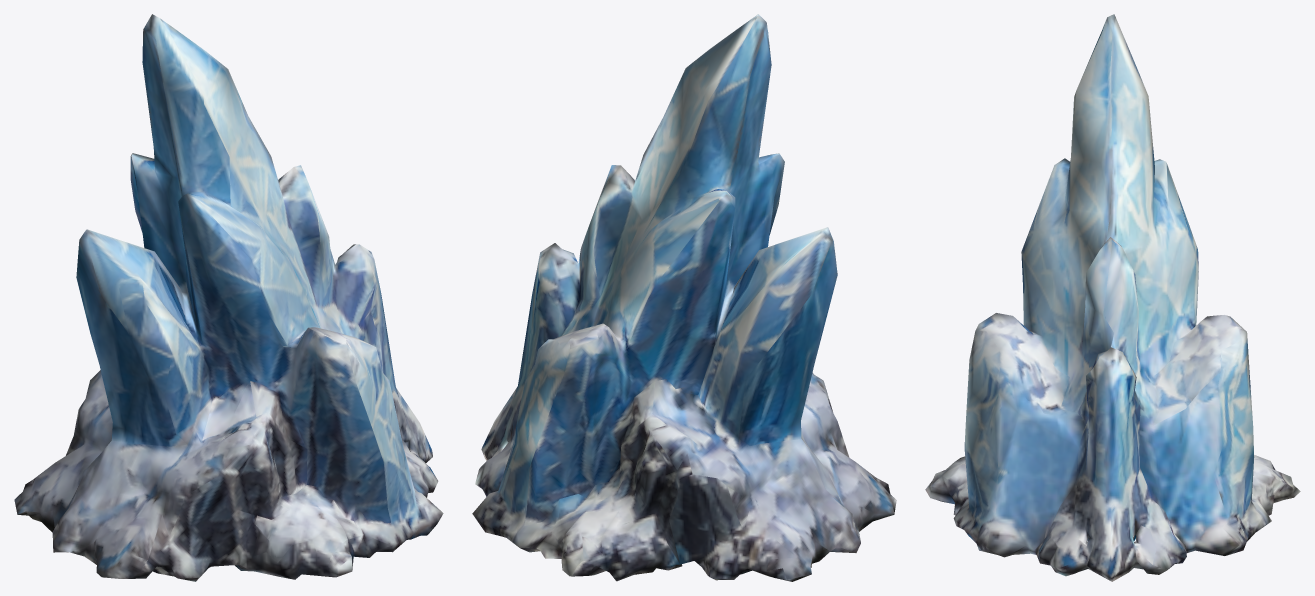
File: SecondRoom_IceSpire.fbx
3 views of the same model, side by side, from view 1: azimuth 30°, elevation 25°; view 2: azimuth 150°, elevation 25°; view 3: azimuth 270°, elevation 25° (orthographic). The views are drawn at different scales.
Visible parts, largest first — view 1: SecondRoom_IceSpire_Mesh; view 2: SecondRoom_IceSpire_Mesh; view 3: SecondRoom_IceSpire_Mesh.
Boxes of the visible parts, x1,y1,x2,y2 form: SecondRoom_IceSpire_Mesh: [14, 14, 443, 581]; SecondRoom_IceSpire_Mesh: [472, 14, 896, 581]; SecondRoom_IceSpire_Mesh: [925, 14, 1300, 581].
Size of the model in its own units: 4.41 by 6 by 4.29.
Materials: 1 (1 with a texture image).
